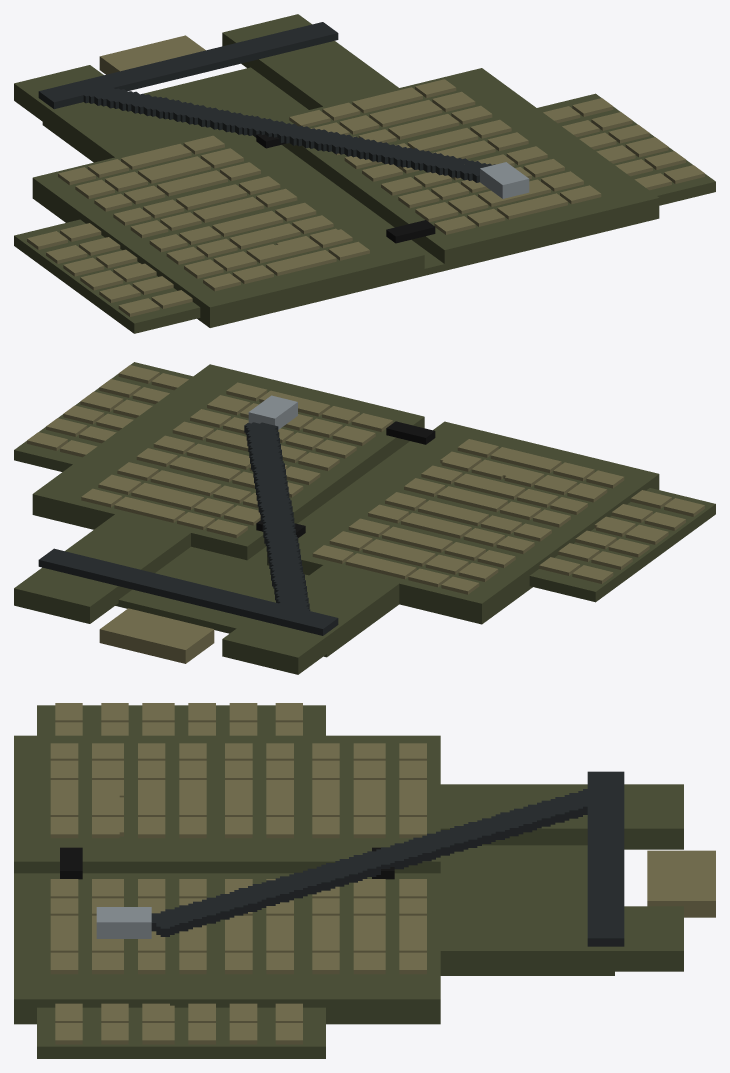
Rendered from heavy_load_bearing_vest_sling.glb.
3 views of the same model, one above another, from view 1: azimuth 30°, elevation 25°; view 2: azimuth 150°, elevation 25°; view 3: azimuth 270°, elevation 25° (orthographic). The views are drawn at different scales.
Parts seen in each view (by area): view 1: heavy_load_bearing_vest_sling:compound; view 2: heavy_load_bearing_vest_sling:compound; view 3: heavy_load_bearing_vest_sling:compound.
Part boxes in pixels (<box>): heavy_load_bearing_vest_sling:compound: <box>14,14,715,333</box>; heavy_load_bearing_vest_sling:compound: <box>14,362,715,674</box>; heavy_load_bearing_vest_sling:compound: <box>14,703,715,1058</box>.
Size of the model in its own units: 0.704 by 0.044 by 0.612.
